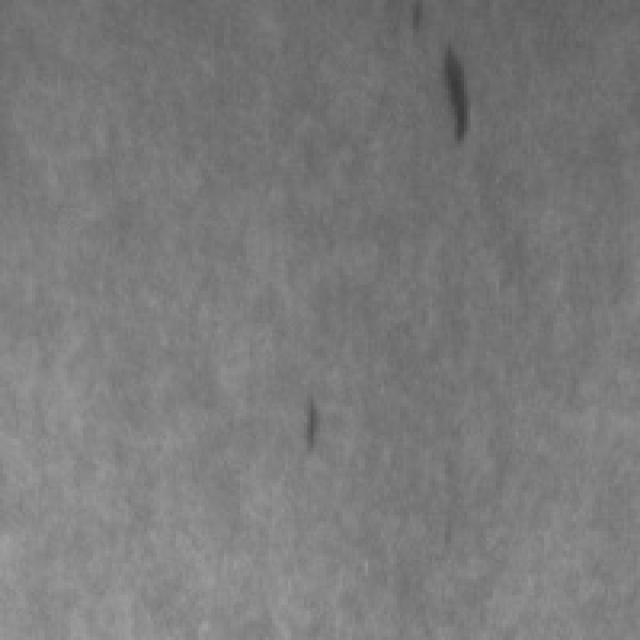inclusion: (406, 0, 484, 147), (291, 381, 336, 461)
